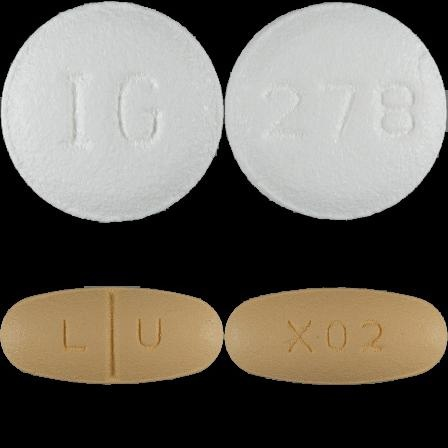49349-778: (0, 0, 224, 224)
